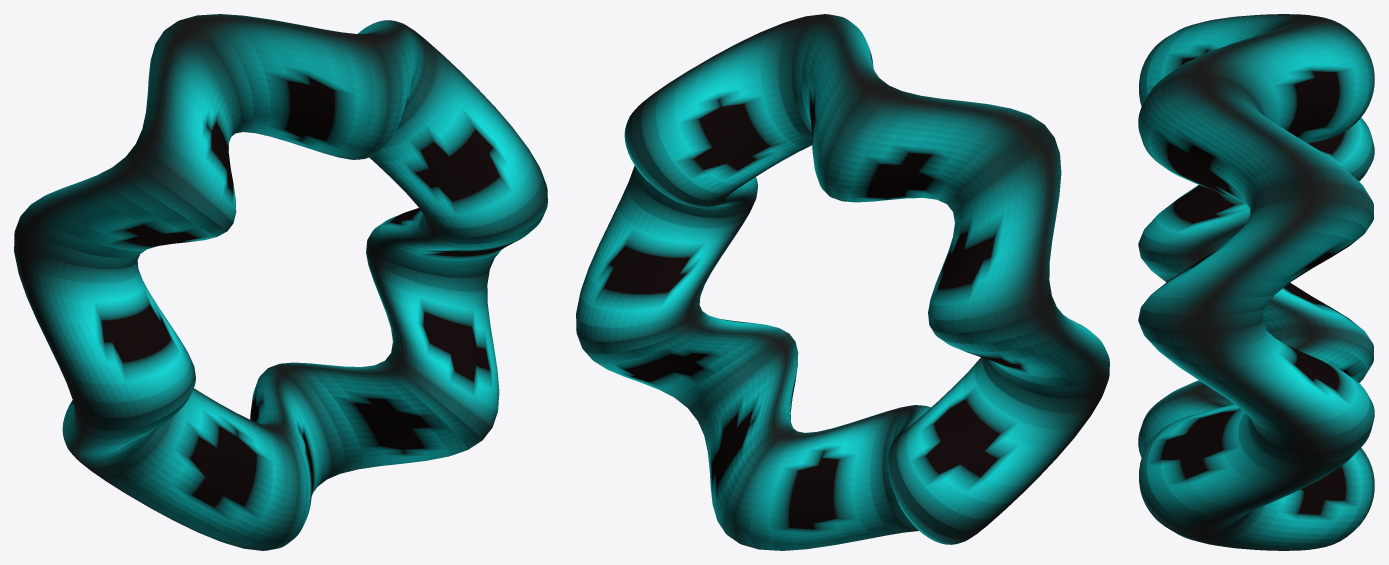
File: step_13.glb
3 renders of one model, left to right at view 1: azimuth 30°, elevation 25°; view 2: azimuth 150°, elevation 25°; view 3: azimuth 270°, elevation 25°, orthographic.
Parts seen in each view (by area): view 1: world; view 2: world; view 3: world.
Part boxes in pixels (box(x1,y1,x2,y2)): world: box(14, 14, 547, 550); world: box(576, 14, 1109, 550); world: box(1138, 14, 1374, 550).
Bounding box in the file's own units: 26 × 26 × 11.45.
